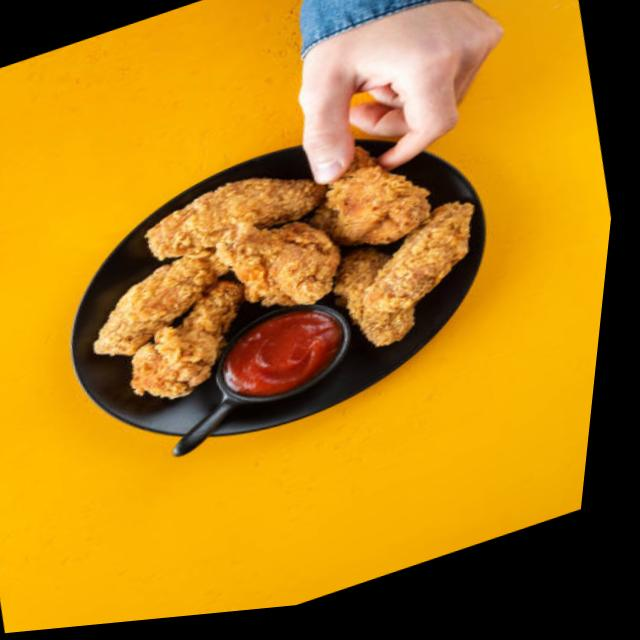CHICKEN FRY: (75, 139, 487, 419)
SAUCE: (219, 309, 344, 402)
